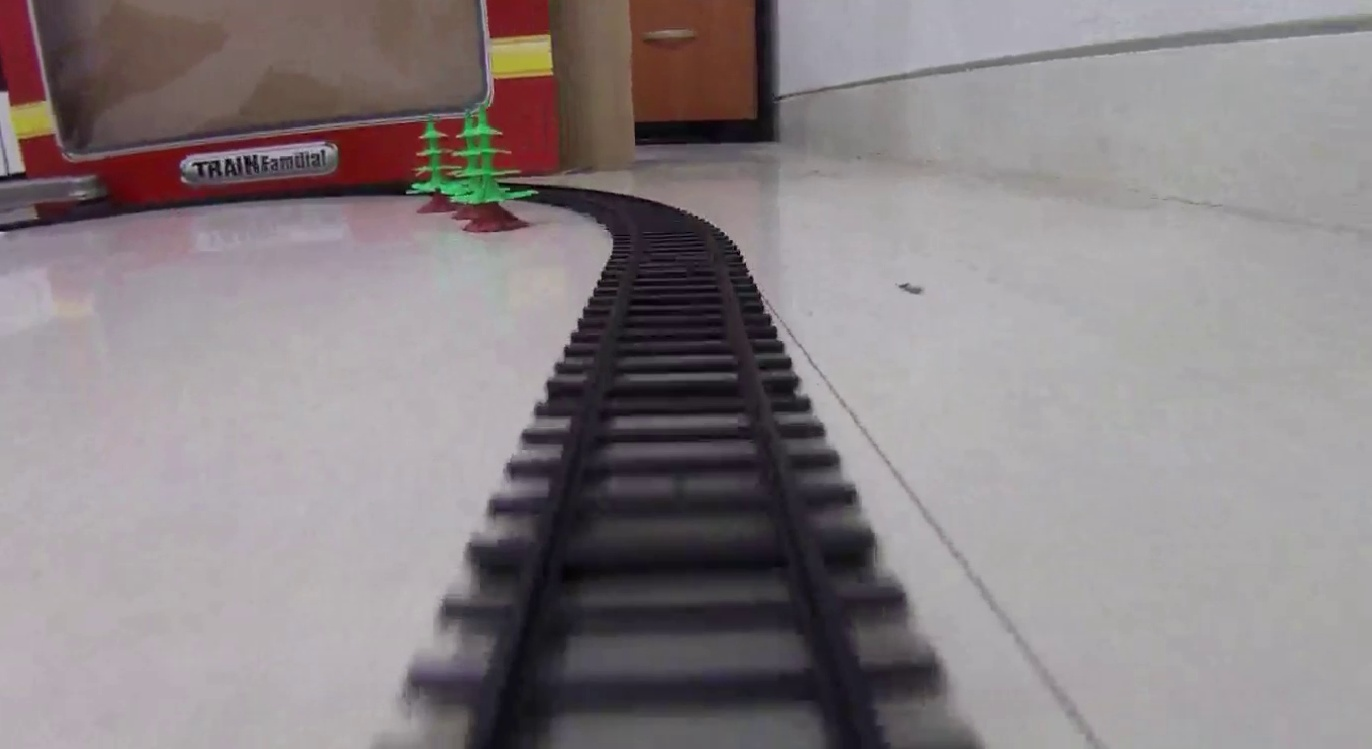tree: (456, 107, 529, 234), (410, 118, 462, 214)
